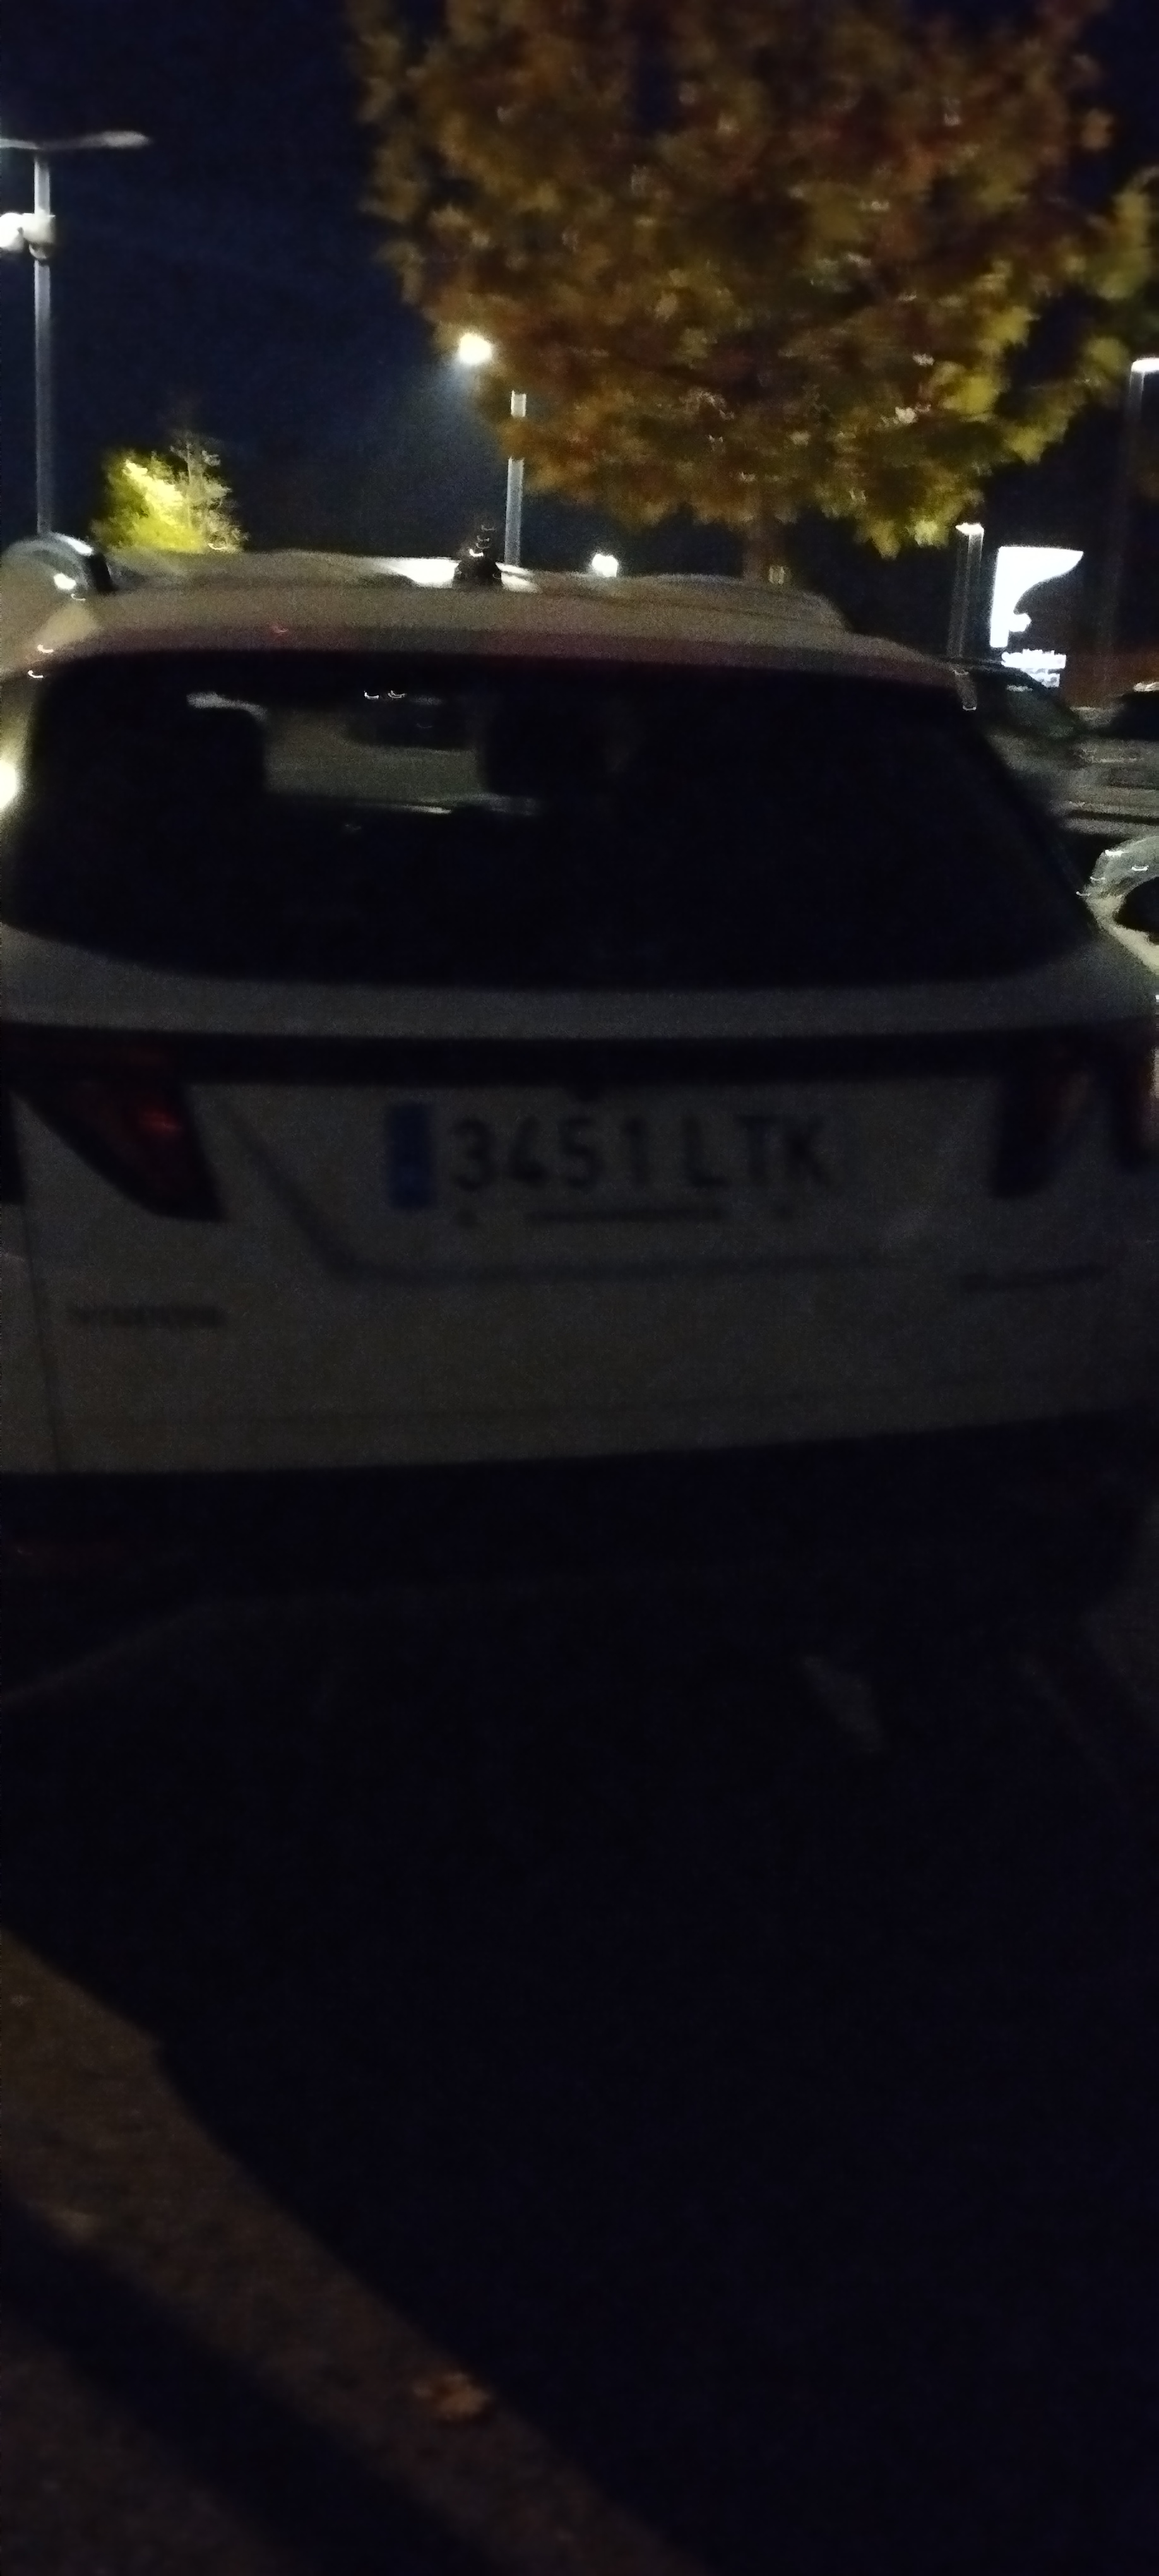Plate: (376, 1097, 859, 1226)
